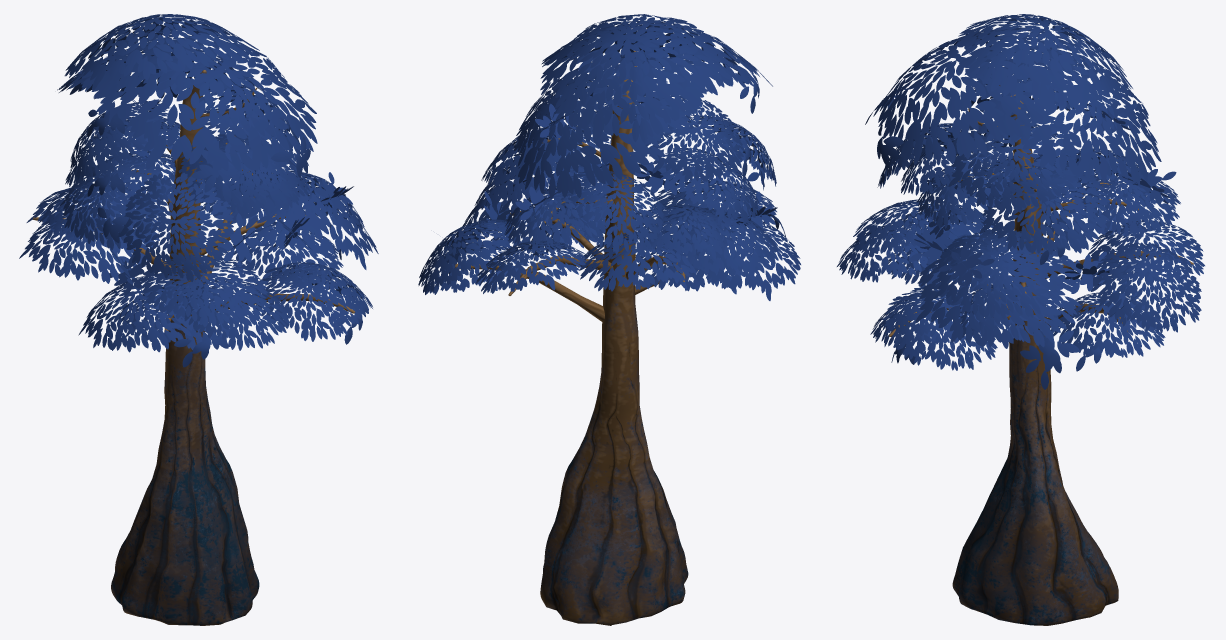
Rendered from MarshTree_f01.fbx.
3 views of the same model, side by side, from view 1: azimuth 30°, elevation 25°; view 2: azimuth 150°, elevation 25°; view 3: azimuth 270°, elevation 25° (orthographic). The views are drawn at different scales.
Visible parts, largest first — view 1: Tree_f01; view 2: Tree_f01; view 3: Tree_f01.
Part boxes in pixels (<box>): Tree_f01: <box>19,14,378,625</box>; Tree_f01: <box>418,14,800,625</box>; Tree_f01: <box>837,14,1204,625</box>.
Bounding box in the file's own units: 20.78 × 35.83 × 21.88.
